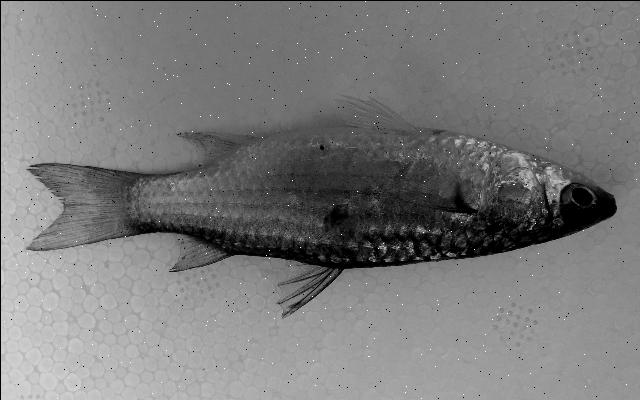Mulut: (596, 180, 624, 234)
Sirip Anal: (166, 112, 274, 176)
Sirip Dada: (360, 151, 480, 227)
Sirip Ekor: (18, 151, 126, 265)
Sirip Perut: (322, 82, 422, 145)
Sirip Punggung: (164, 222, 342, 326)
